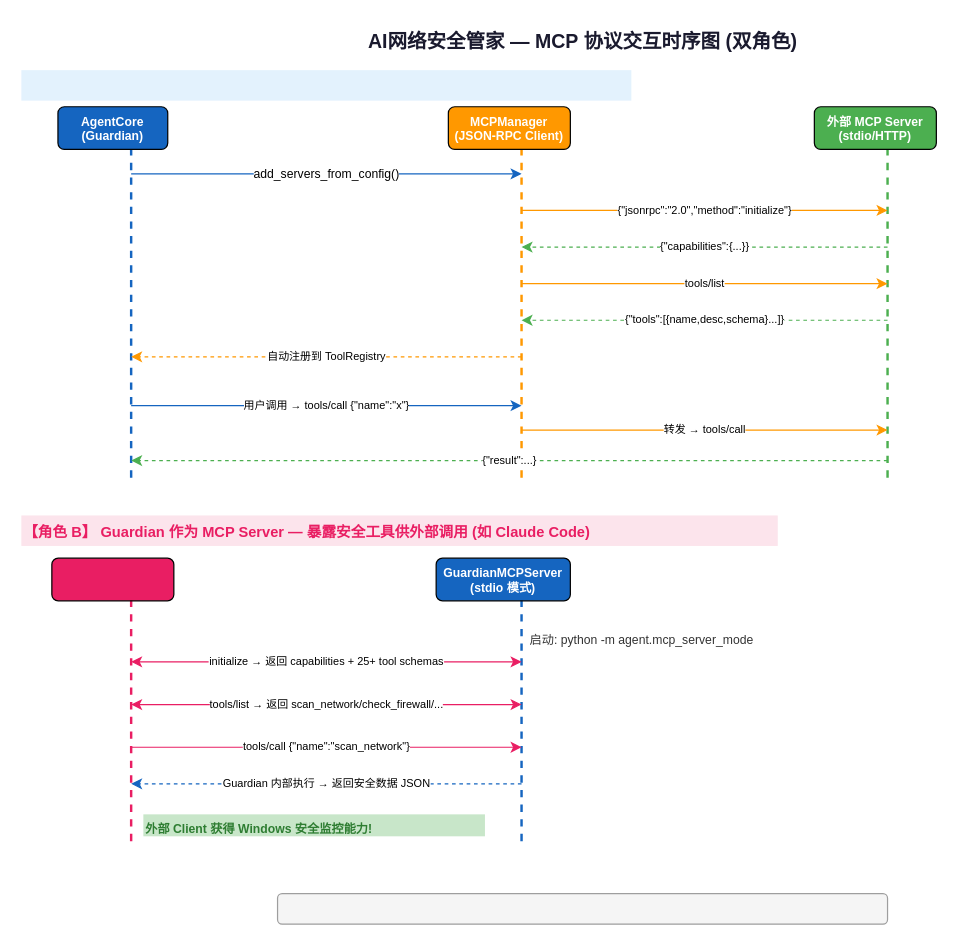
Image size: 969x946. Some labels were removed from this diagram. The centre of each missing label's shape, as x and y in pixels:
【角色 A】 Guardian 作为 MCP Client — 连接外部工具服务器: (326,85)
协议: JSON-RPC 2.0 | 传输: stdio (子进程) 或 HTTP | 标准: MCP 2024-11-05: (582,908)
外部 Client (如 Claude Code): (112,579)
